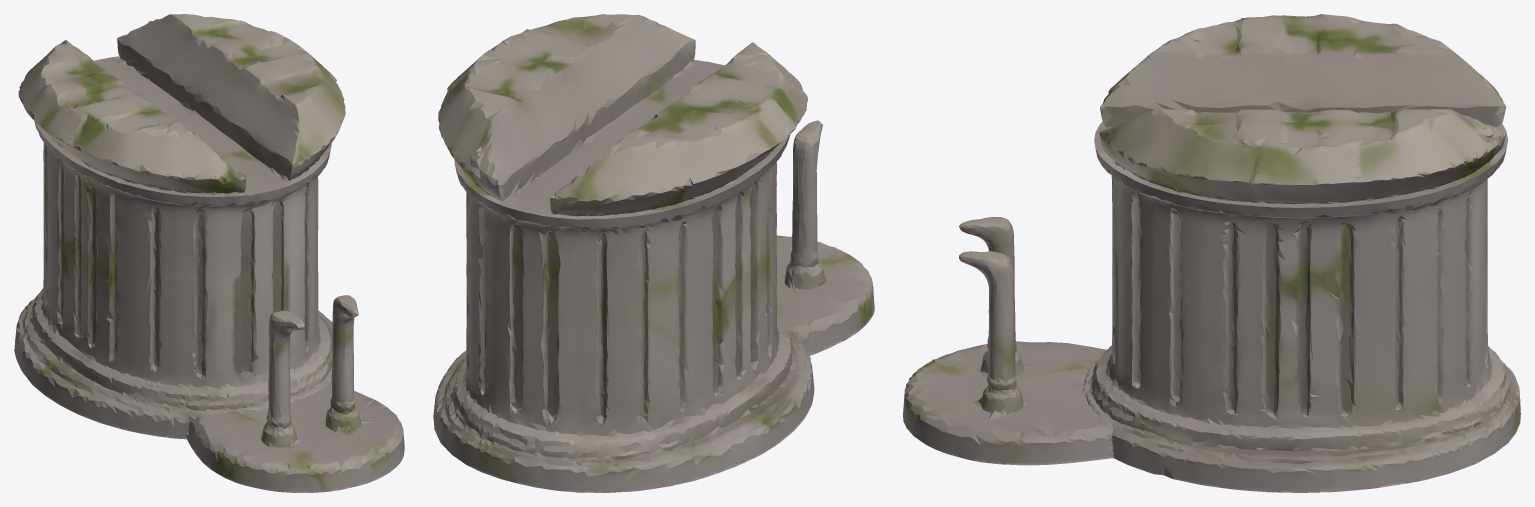
File: rodin_Lab_BrokenColumn_raw.glb
3 views of the same model, side by side, from view 1: azimuth 30°, elevation 25°; view 2: azimuth 150°, elevation 25°; view 3: azimuth 270°, elevation 25° (orthographic). The views are drawn at different scales.
Parts seen in each view (by area): view 1: model; view 2: model; view 3: model.
Part boxes in pixels (bbox=[...]): model: bbox=[14, 14, 404, 492]; model: bbox=[433, 14, 874, 492]; model: bbox=[903, 14, 1520, 492].
Size of the model in its own units: 1.13 by 1.13 by 1.89.
Materials: 1 (1 with a texture image).
